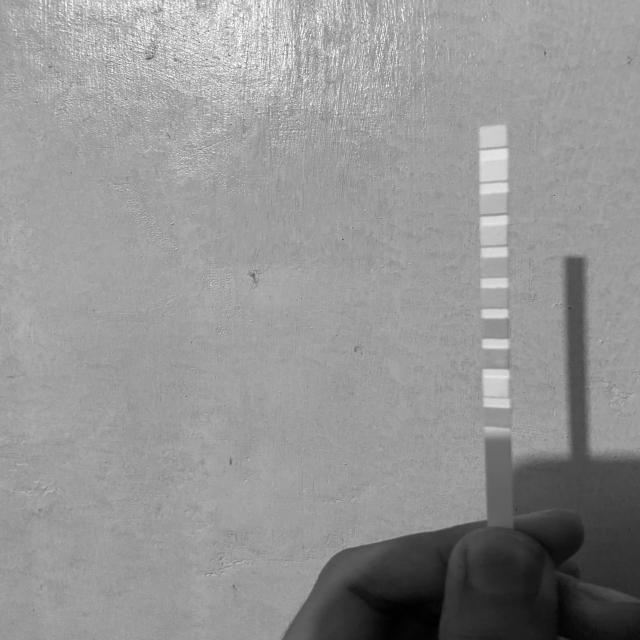Bilirubin: (484, 379, 506, 396)
Blood: (482, 290, 507, 306)
Glucose: (485, 409, 509, 426)
Ketone: (484, 350, 508, 368)
Leukocytes: (480, 130, 506, 146)
Nitrite: (481, 163, 506, 180)
Protein: (481, 226, 506, 244)
SpGravity: (483, 320, 507, 337)
Urobilinogen: (481, 195, 507, 212)
background: (0, 0, 640, 640)
pH: (482, 258, 506, 276)
strip: (479, 125, 514, 530)
